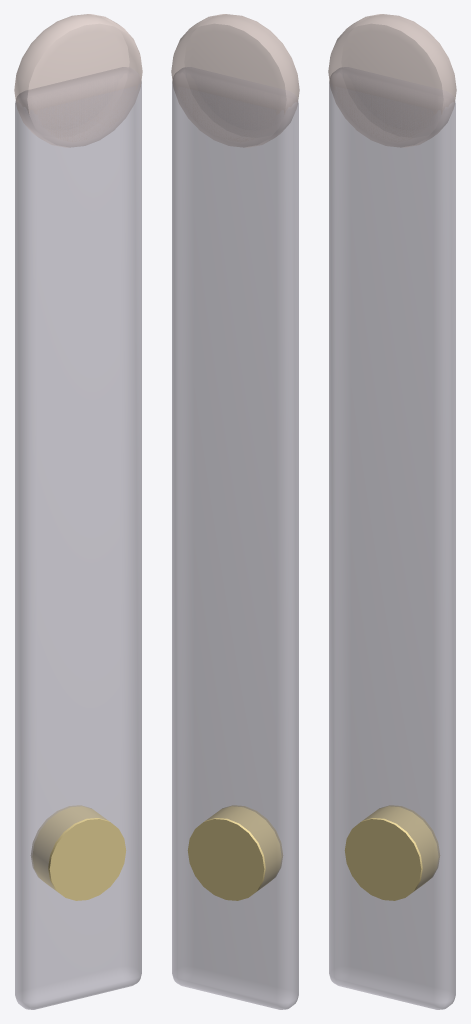
File: czech-glass-nail-file.glb
3 views of the same model, side by side, from view 1: azimuth 30°, elevation 25°; view 2: azimuth 150°, elevation 25°; view 3: azimuth 330°, elevation 25° (orthographic).
Parts seen in each view (by area): view 1: file_GlassBlade, file_RoundedTip, file_MonogramEmblem; view 2: file_GlassBlade, file_RoundedTip, file_MonogramEmblem; view 3: file_GlassBlade, file_RoundedTip, file_MonogramEmblem.
Boxes of the visible parts, x1,y1,x2,y2 form: file_GlassBlade: (15,67,141,1009); file_RoundedTip: (14,14,142,147); file_MonogramEmblem: (31,805,126,900); file_GlassBlade: (172,67,298,1009); file_RoundedTip: (171,14,299,147); file_MonogramEmblem: (187,805,282,900); file_GlassBlade: (329,67,455,1009); file_RoundedTip: (328,14,456,147); file_MonogramEmblem: (344,805,439,900).
Bounding box in the file's own units: 0.022 × 0.171 × 0.006.
